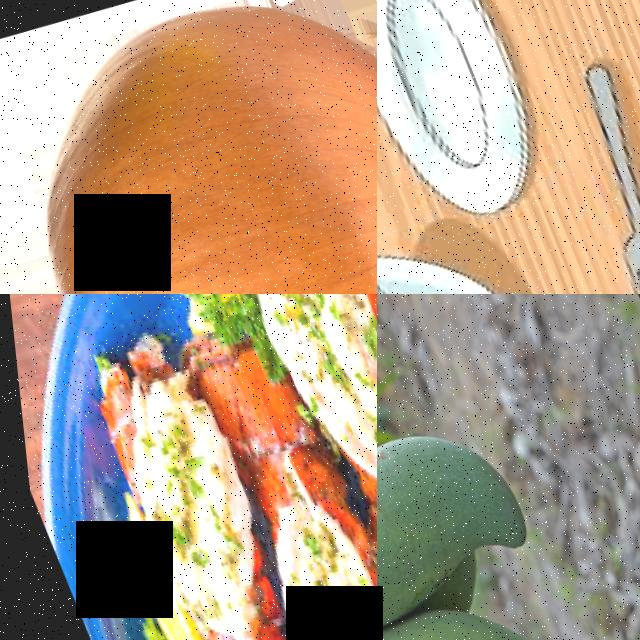lobster tails: (58, 310, 345, 640), (177, 320, 377, 640), (225, 294, 377, 614)
mango: (377, 405, 542, 639), (377, 569, 589, 640)
onion: (0, 0, 377, 294)
